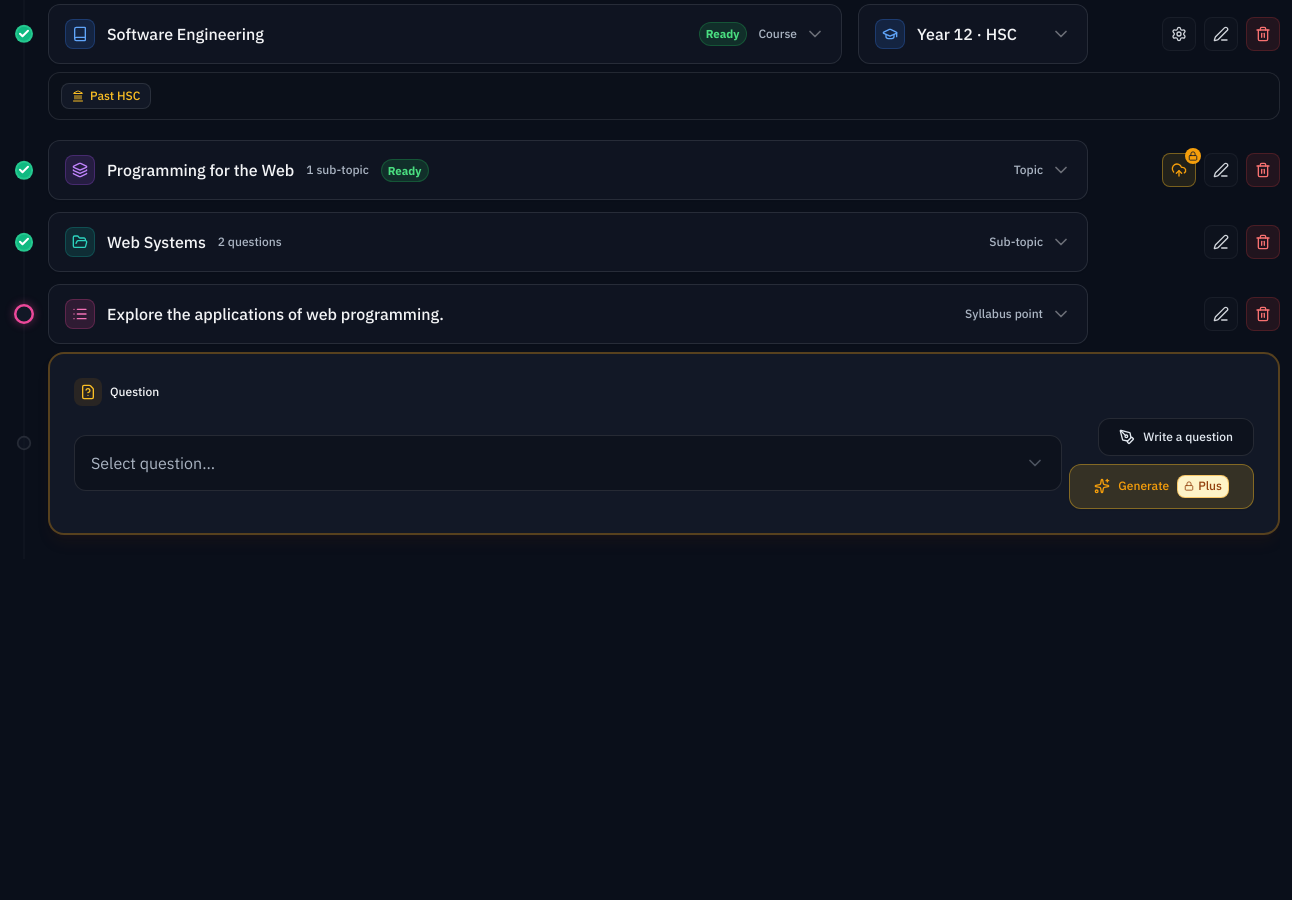
past HSC navigator › shows only the past HSC questions in the question list, and restores them when off
The image size is (1292, 900).
Step 1. Click the button "Past HSC" → (106, 96), box [61, 83, 151, 109]
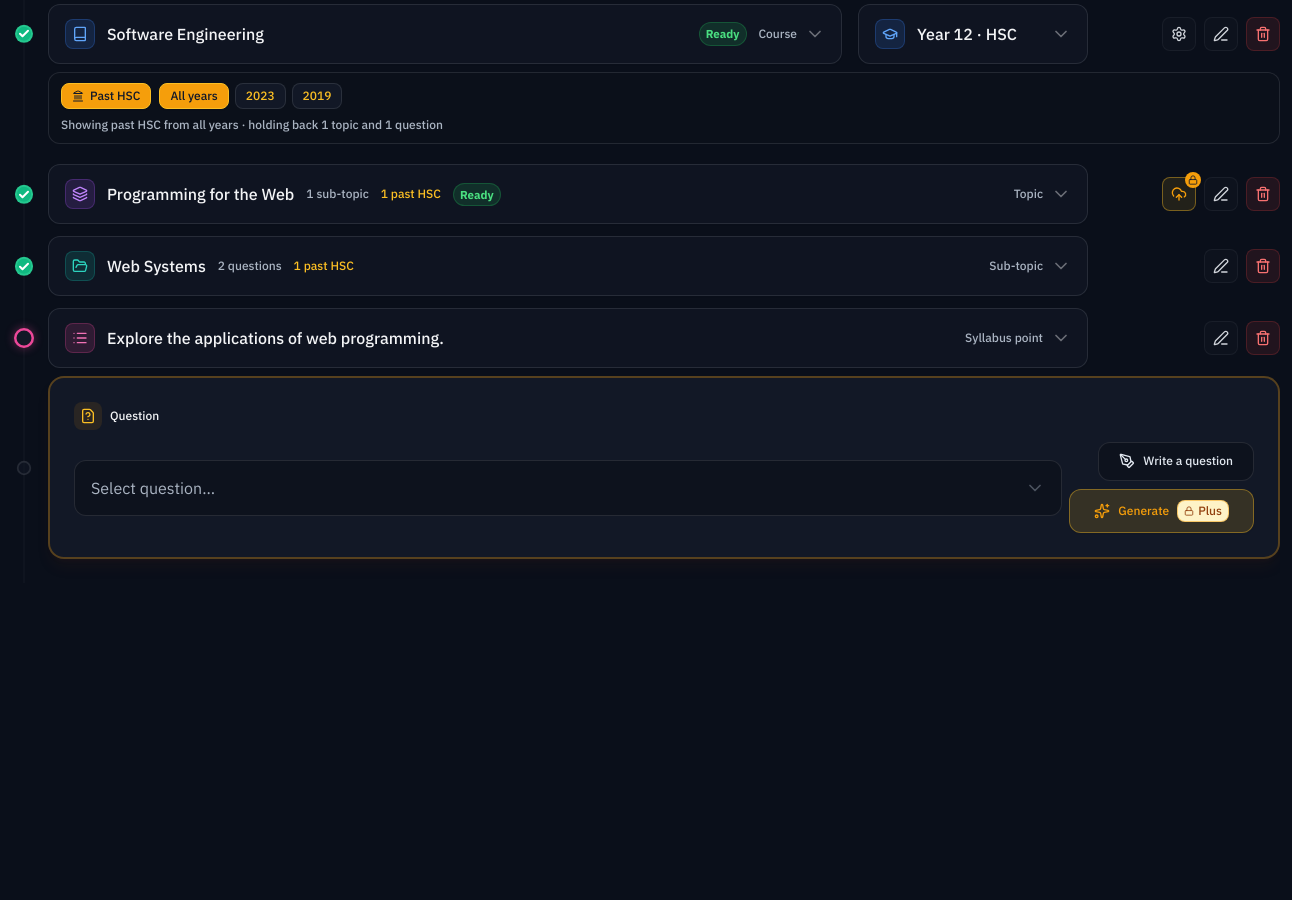
Step 2. Click the button "Select question…" → (153, 488), box [74, 460, 1062, 516]
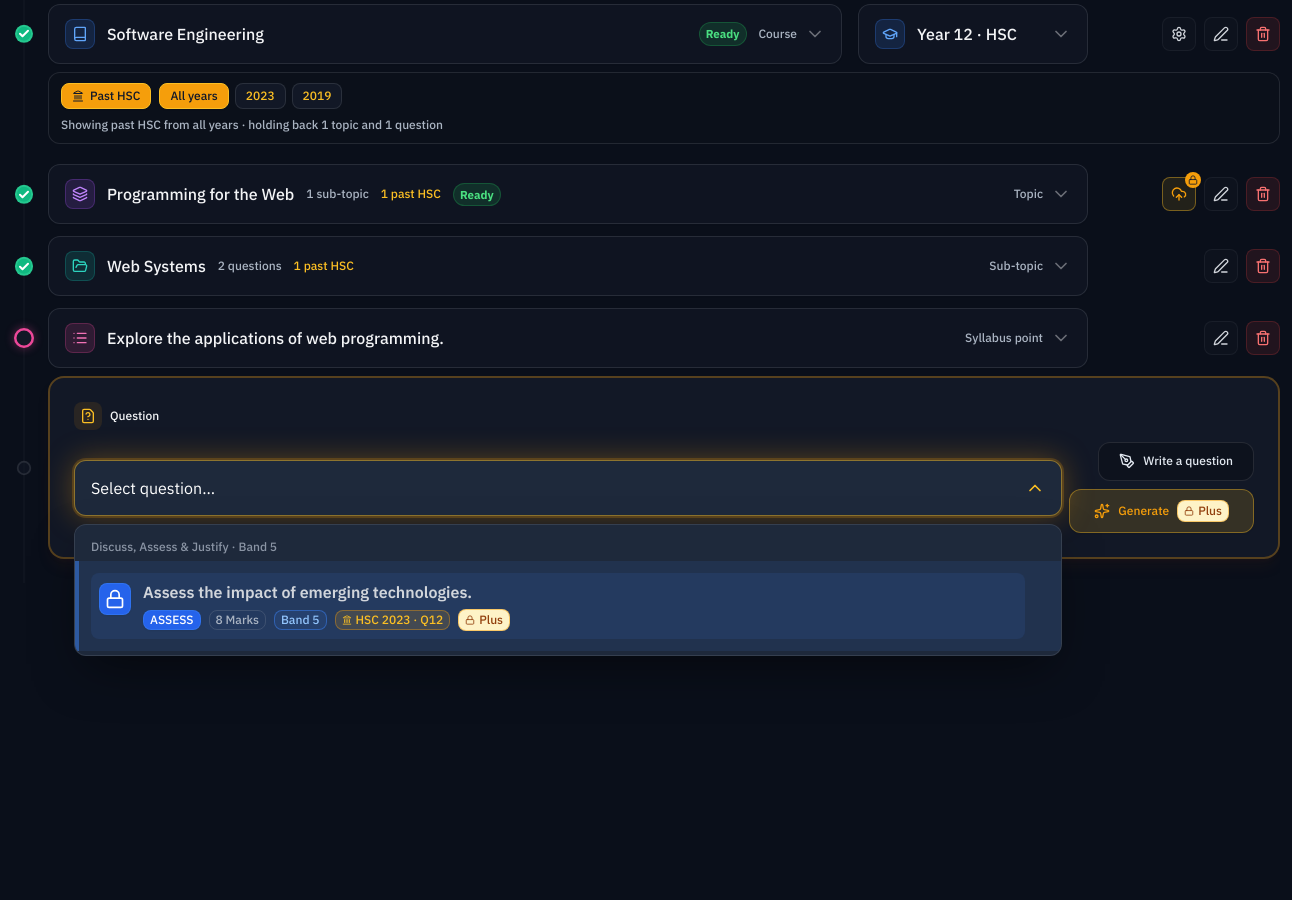
expect the text "automated testing" is not shown: met
expect the text "Assess the impact of emerging technologies." is shown: met, box [143, 582, 472, 602]
Step 3. Press the mouse on the element that starts with "Software Engineering" → (640, 291), box [0, 0, 1280, 583]
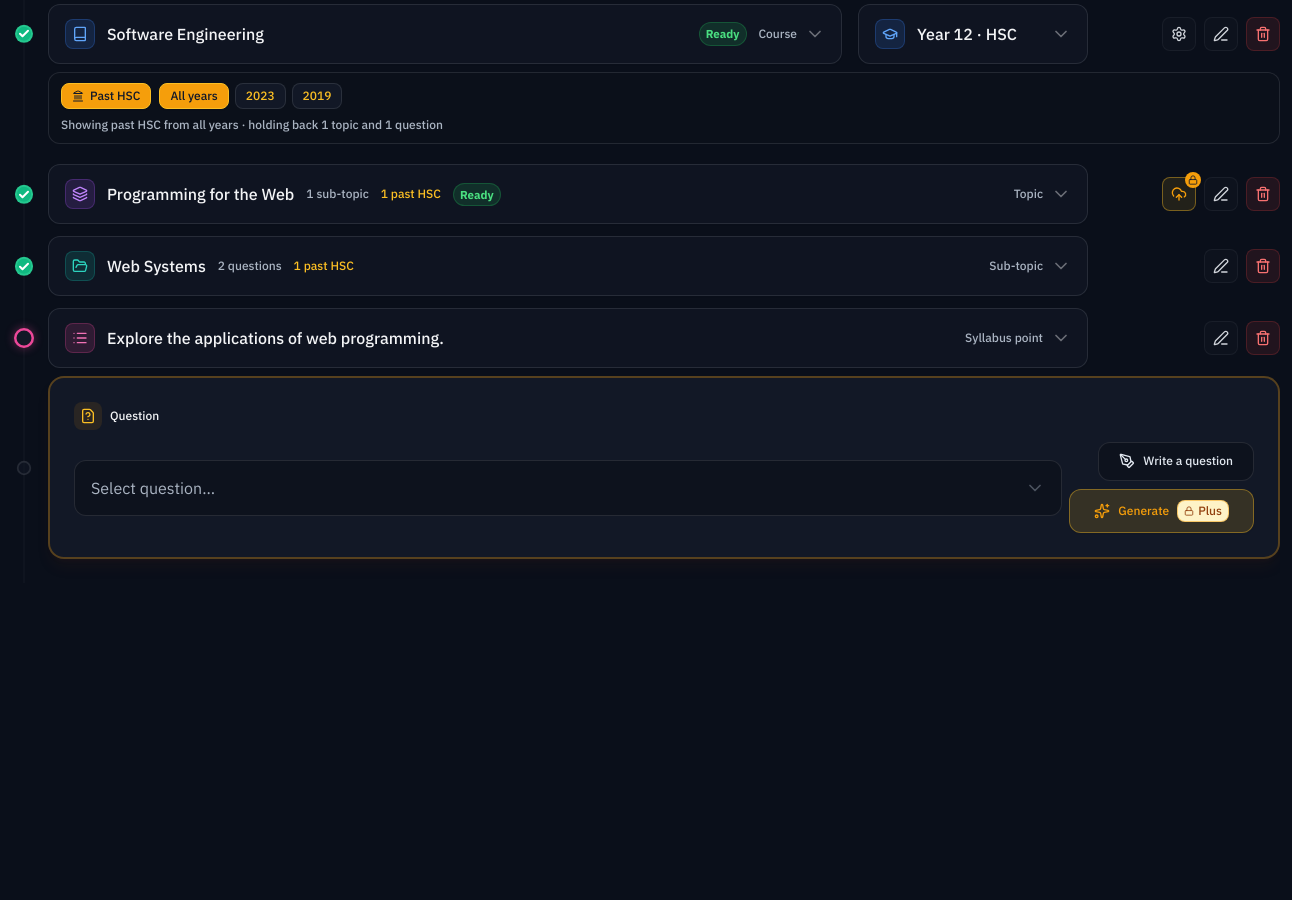
Step 4. Click the button "Past HSC" → (106, 96), box [61, 83, 151, 109]
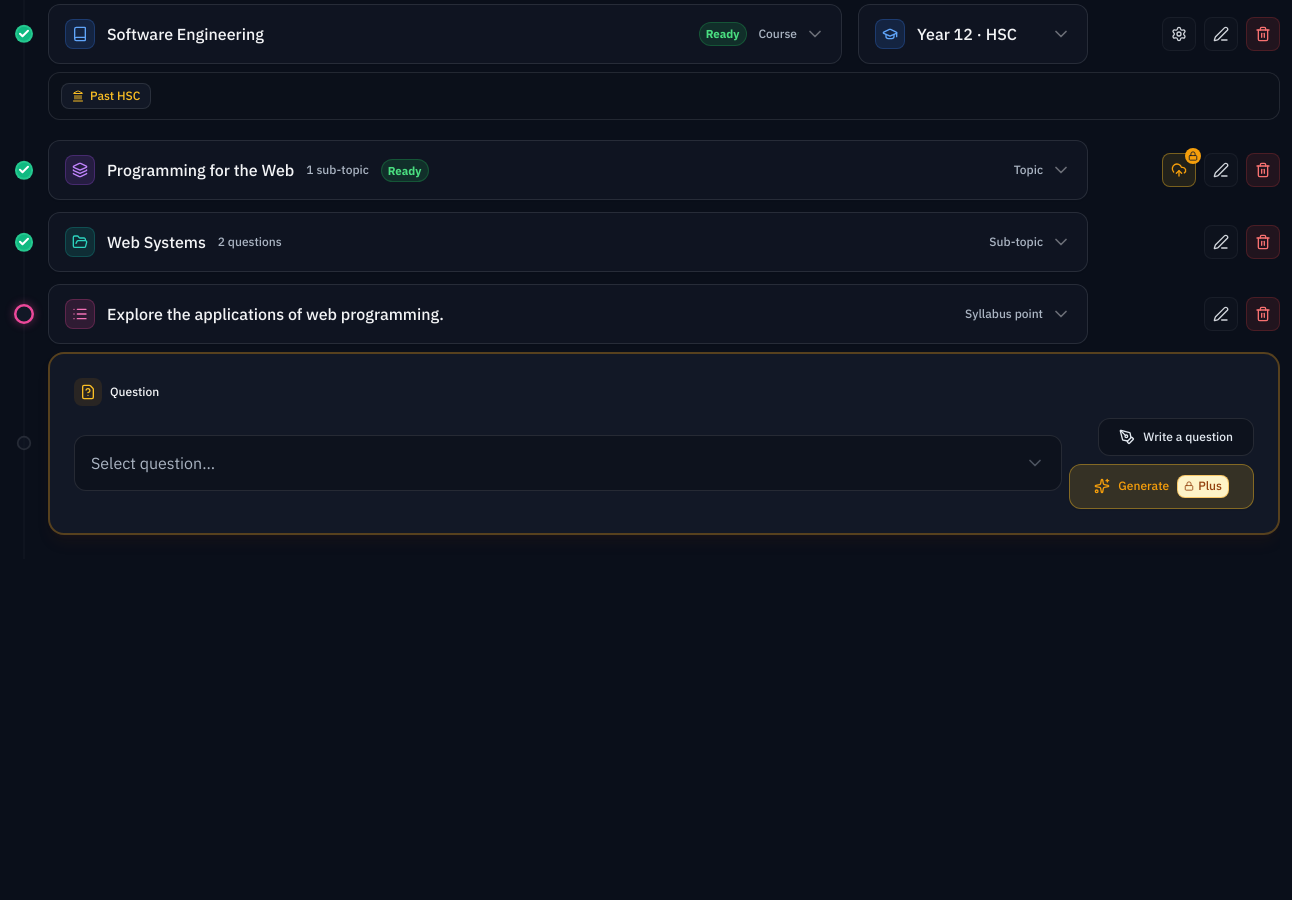
Step 5. Click the button "Select question…" → (153, 463), box [74, 435, 1062, 491]
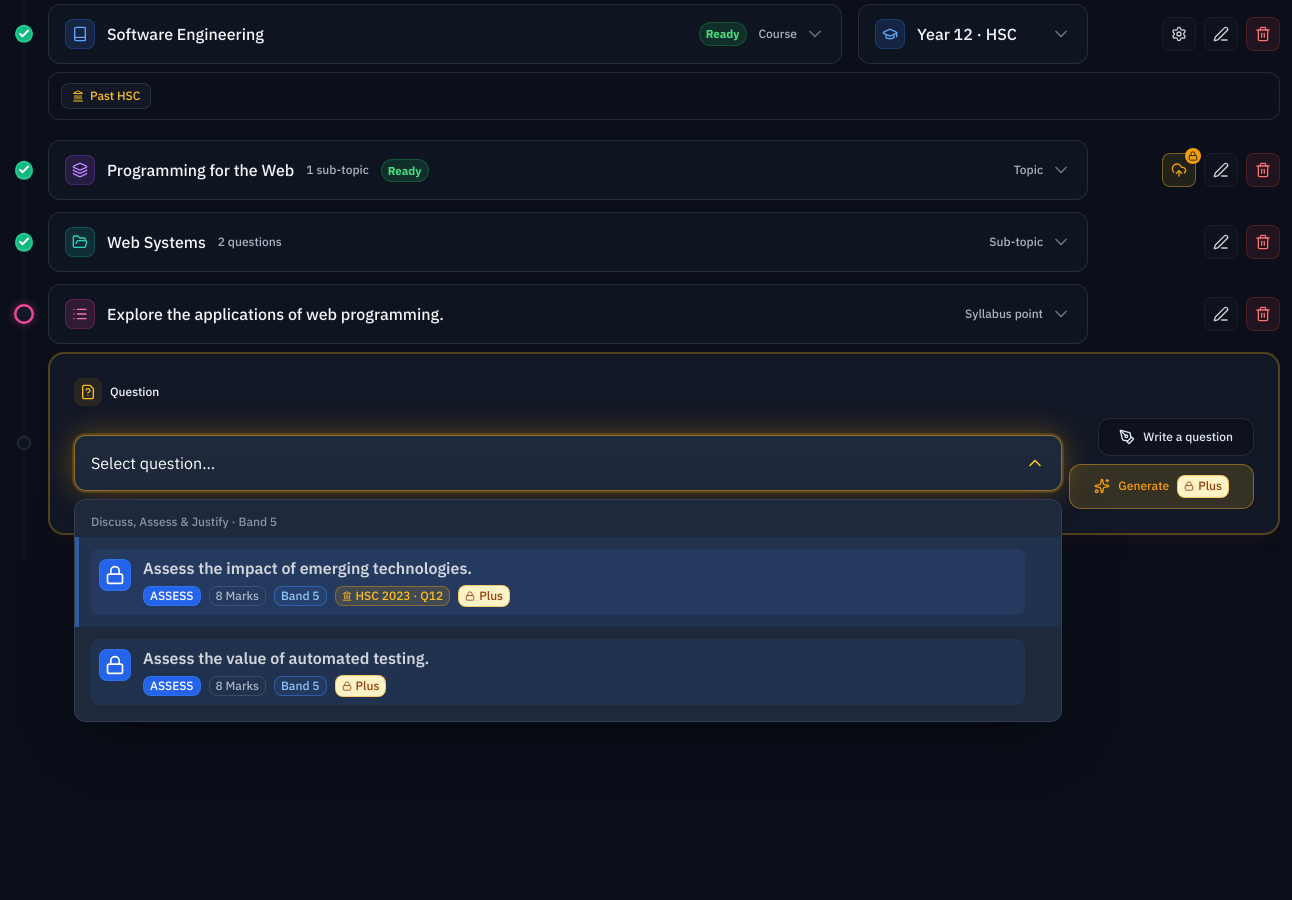
expect the text "Assess the value of automated testing." is shown: met, box [143, 648, 429, 668]
